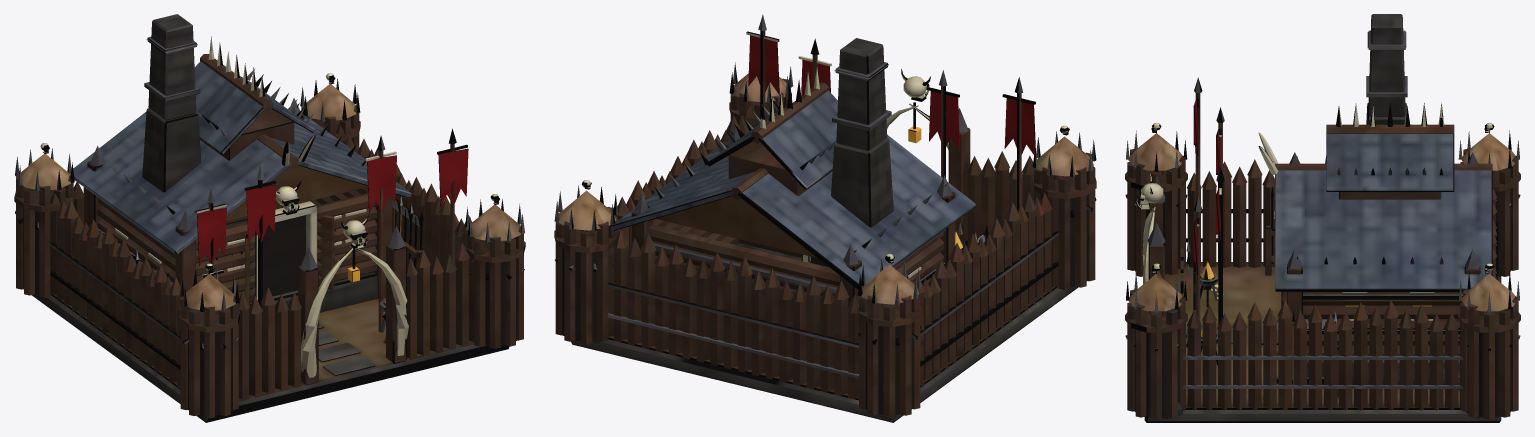
Rendered from great_hall.glb.
3 views of the same model, side by side, from view 1: azimuth 30°, elevation 25°; view 2: azimuth 150°, elevation 25°; view 3: azimuth 270°, elevation 25° (orthographic). The views are drawn at different scales.
Parts seen in each view (by area): view 1: Static_Mesh, Anim_WarBanner_3, Anim_WarBanner_2, Anim_WarBanner_0, Anim_WarBanner_1; view 2: Static_Mesh, Anim_WarBanner_2, Anim_WarBanner_3, Anim_WarBanner_0, Anim_WarBanner_1; view 3: Static_Mesh.
Boxes of the visible parts, x1=… form: Static_Mesh: x1=14, y1=14, x2=525, y2=422; Anim_WarBanner_3: x1=438, y1=148, x2=468, y2=206; Anim_WarBanner_2: x1=197, y1=207, x2=226, y2=265; Anim_WarBanner_0: x1=246, y1=184, x2=276, y2=243; Anim_WarBanner_1: x1=367, y1=155, x2=396, y2=213; Static_Mesh: x1=554, y1=14, x2=1096, y2=422; Anim_WarBanner_2: x1=1004, y1=98, x2=1036, y2=157; Anim_WarBanner_3: x1=748, y1=35, x2=779, y2=94; Anim_WarBanner_0: x1=929, y1=91, x2=960, y2=150; Anim_WarBanner_1: x1=801, y1=59, x2=830, y2=96; Static_Mesh: x1=1125, y1=14, x2=1520, y2=422.
Size of the model in its own units: 12.32 by 10.2 by 12.36.
Materials: 2 (2 with a texture image).
